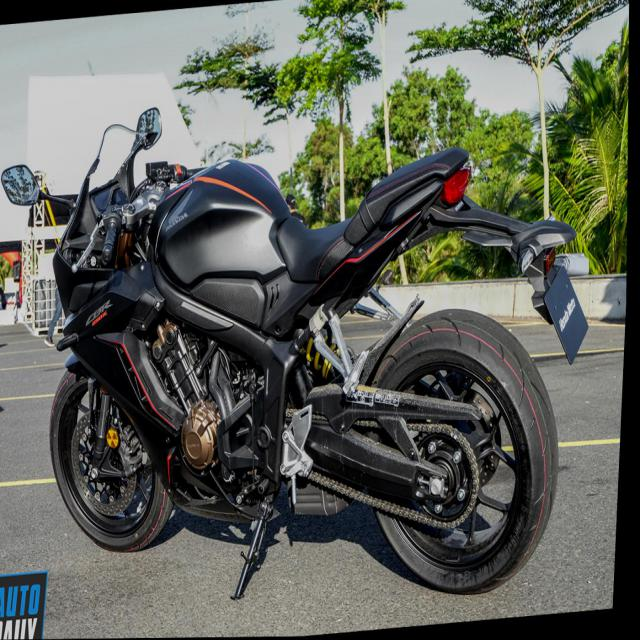CBR650R: (0, 64, 613, 639)
